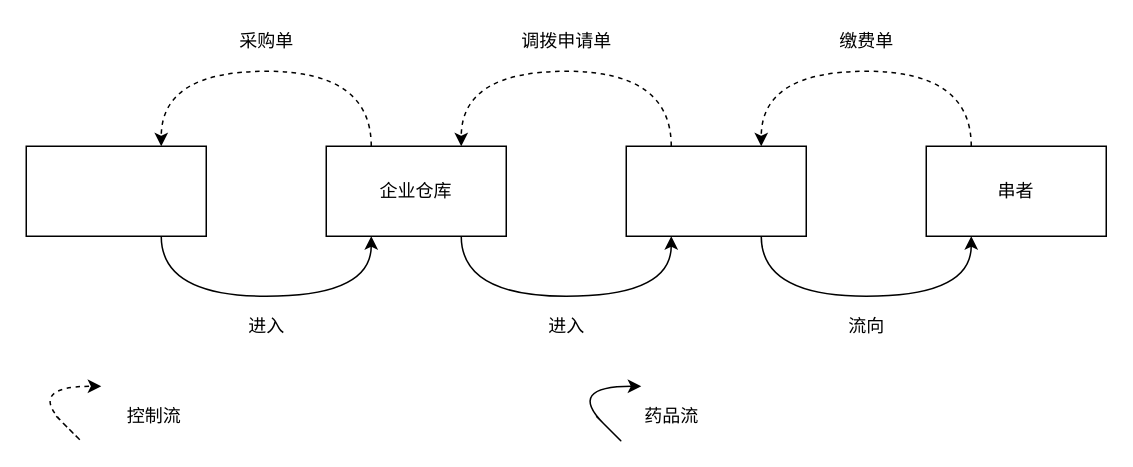
This 1133x467 diagram has some shape labels left out. Here are the shapes that lost their labels. From the top down, the box of each, then its label:
(25, 145, 206, 236): 供应商 仓库
(625, 145, 806, 236): 门诊药房
